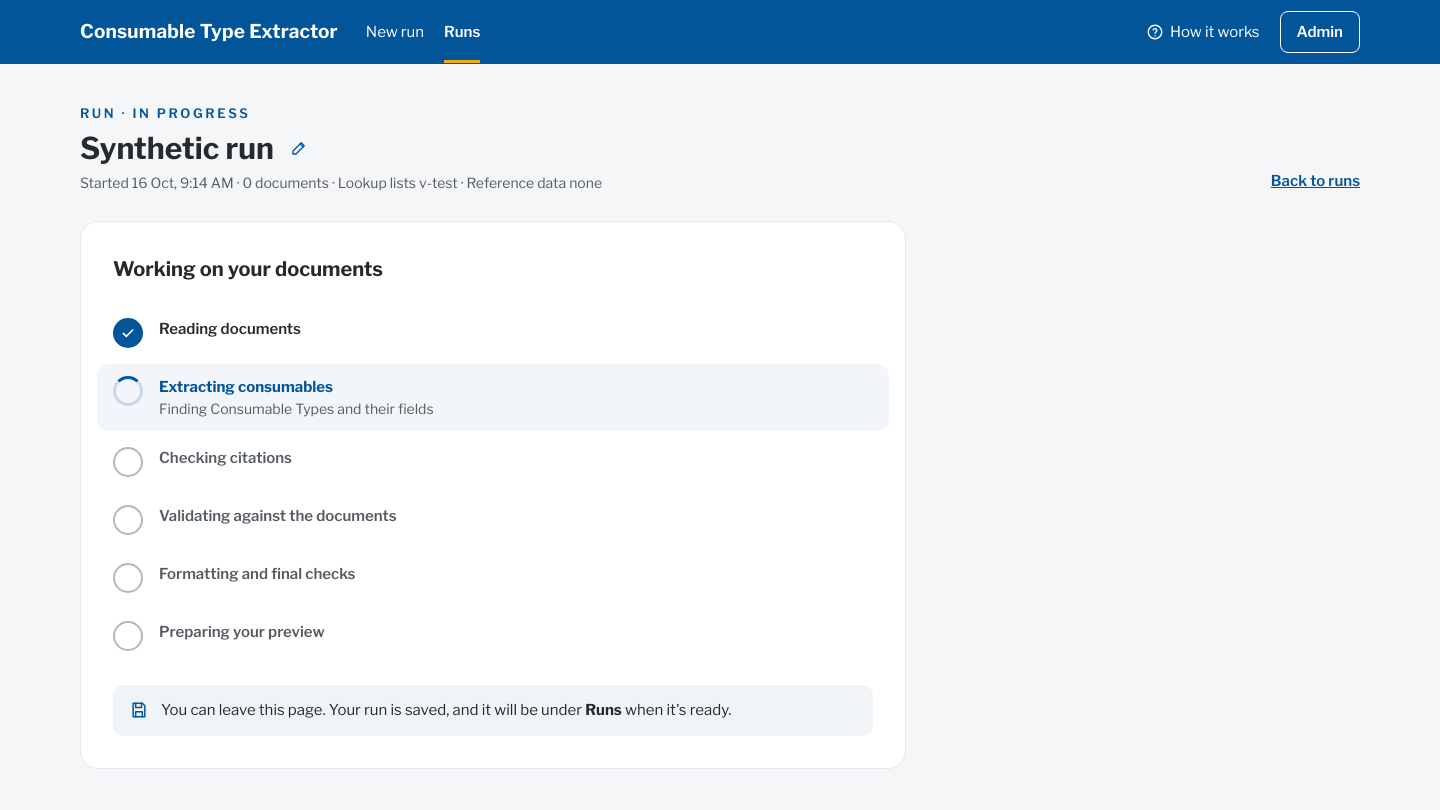
Test: Processing screen rename › Cancel keeps the name and sends nothing
What coordinates should you click on to do the following:
click the button named "Rename run"
I would click on:
 (299, 148)
Its box is [282,130,316,164].
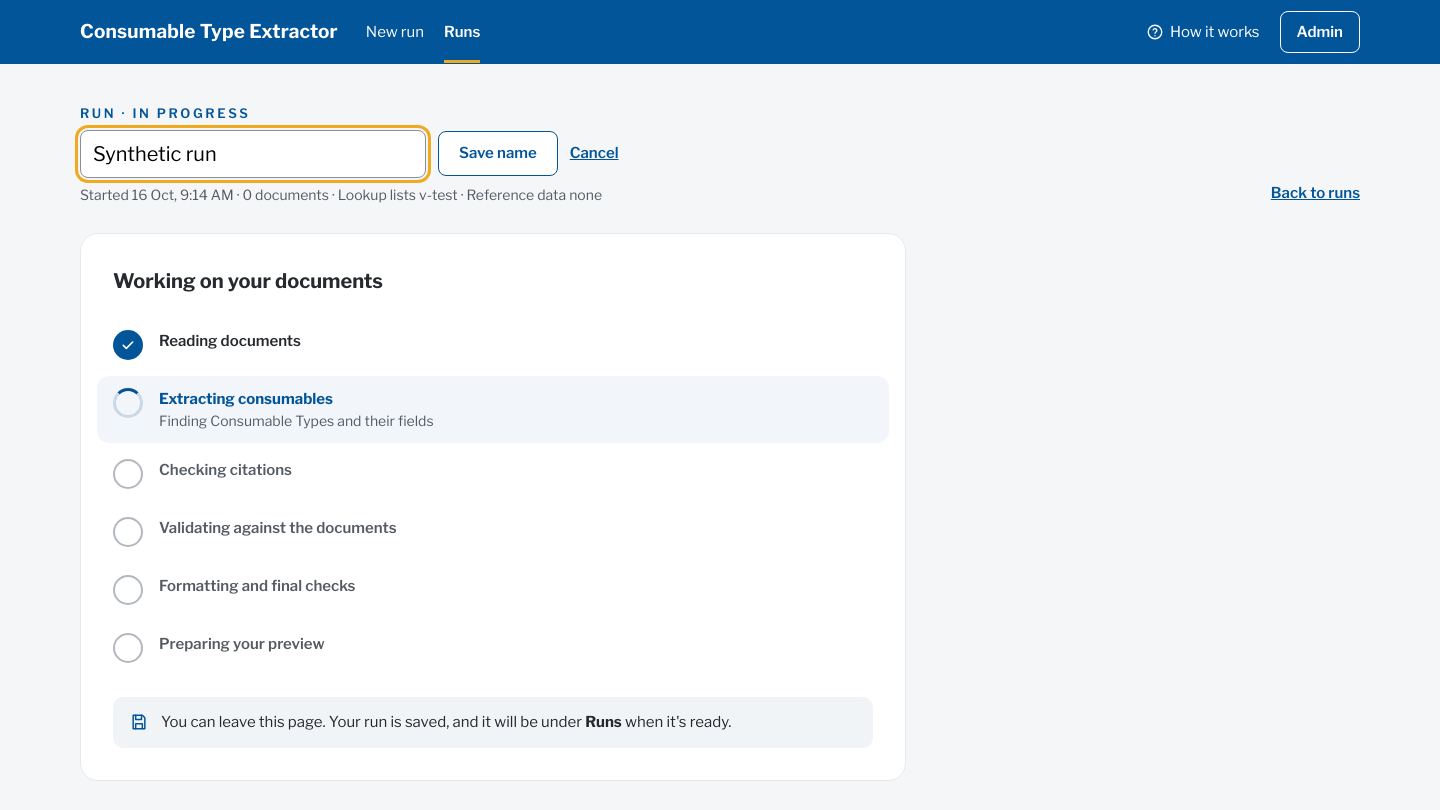
What coordinates should you click on to do the following:
click the button "Cancel"
I would click on:
 (594, 154)
Its box is [570,142,618,165].
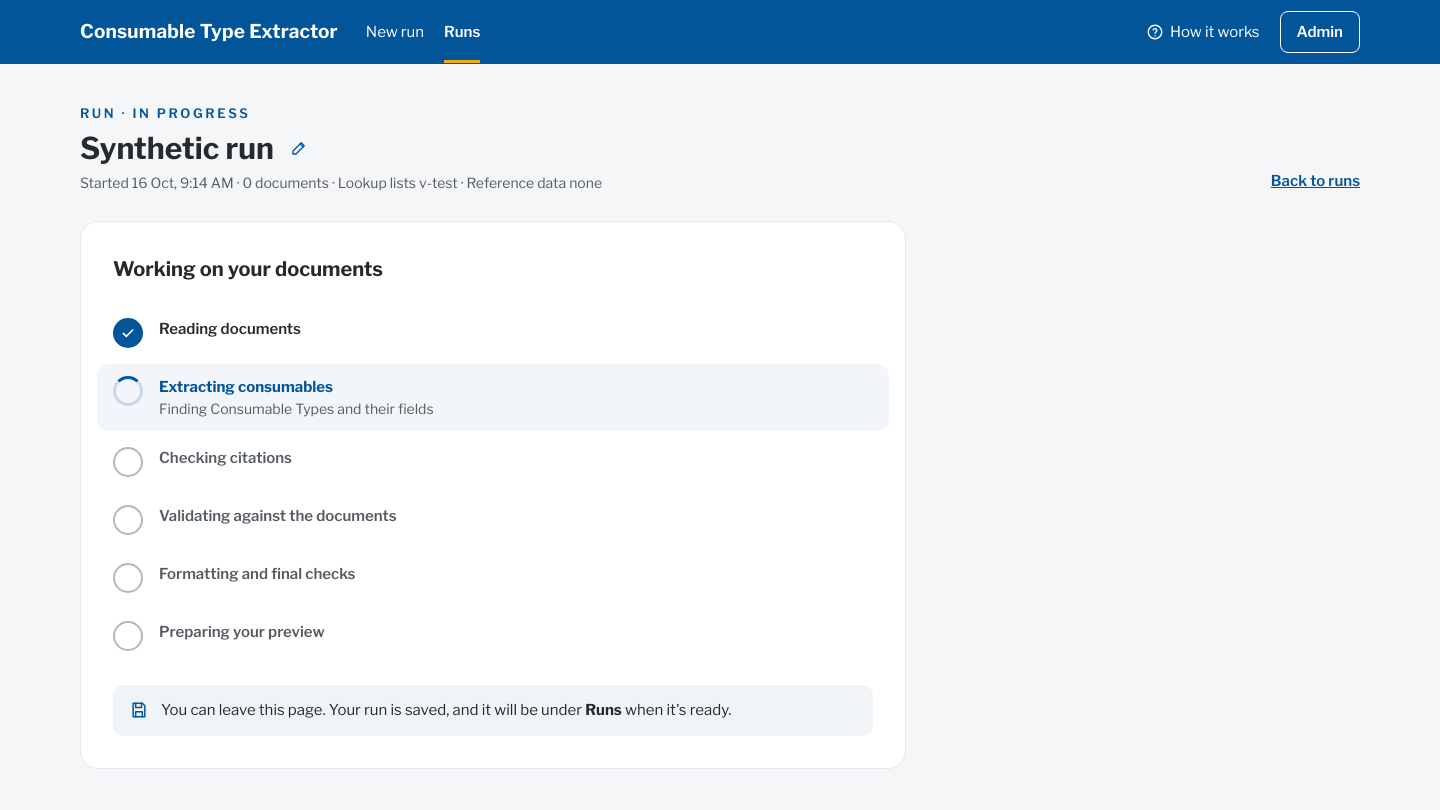
Expected: the heading "Synthetic run" is shown, [80,130,274,166]
